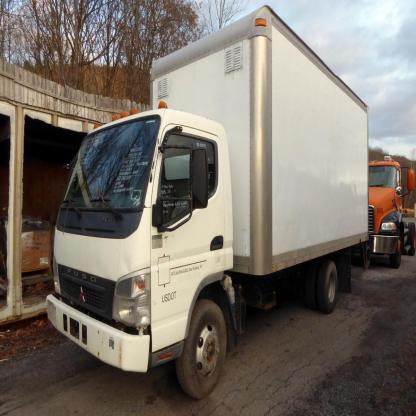truck: (43, 12, 373, 400)
